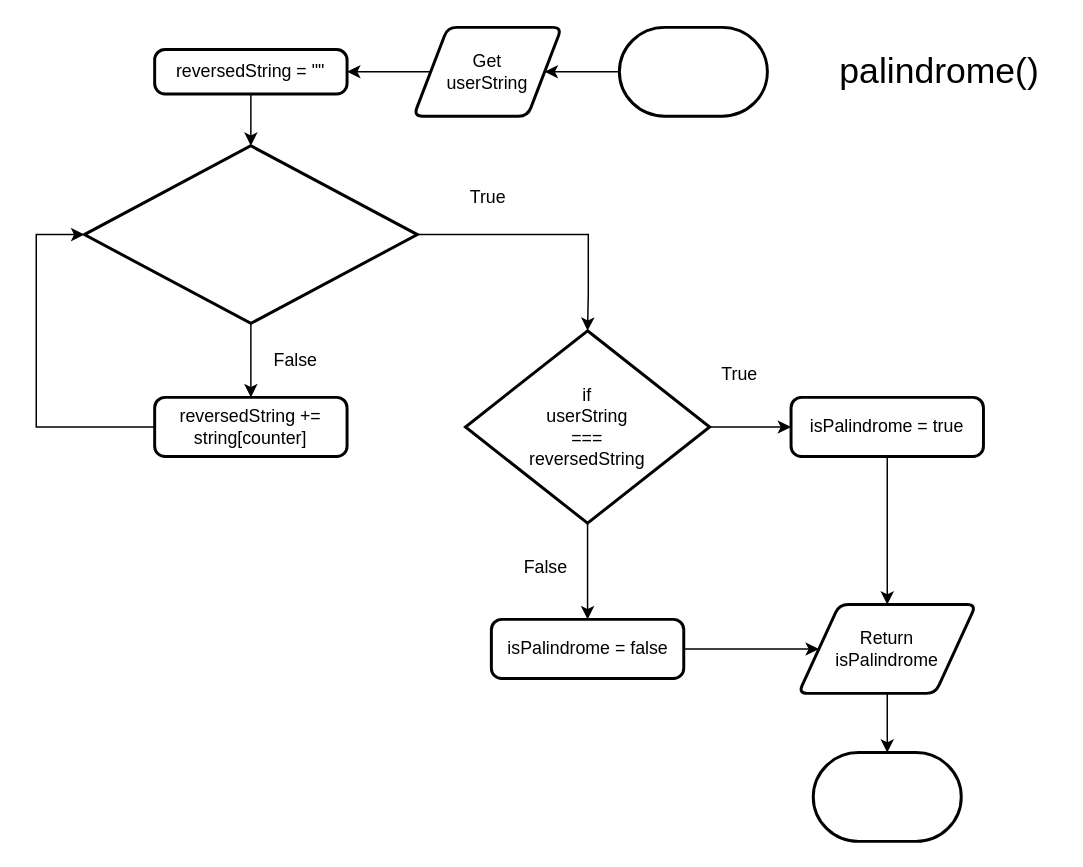
The diagram is 1083 pixels wide and 867 high, and some of its shapes have lost their labels. The shapes that lost their labels are listed below. From the top down, each one's centre as x and y in pixels, then its label:
the point at 692,71: Start
the point at 250,234: for counter = userString.length - 1 counter >= 0 counter--
the point at 886,796: Stop
